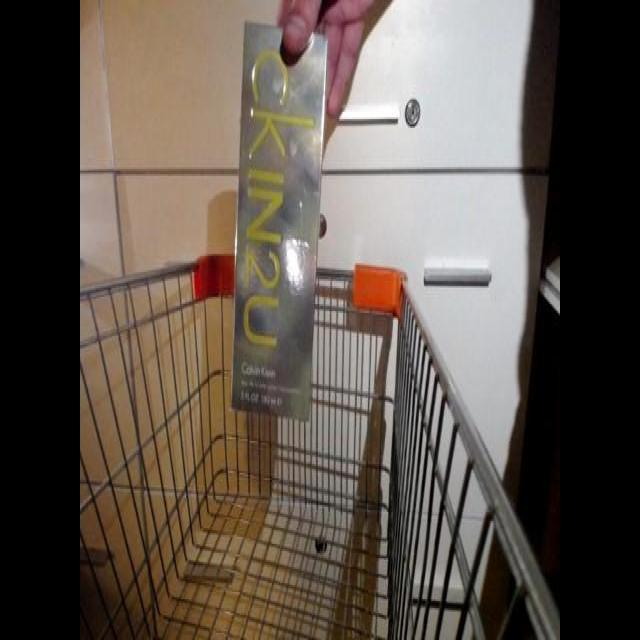Calvin Klein: (226, 20, 334, 426)
